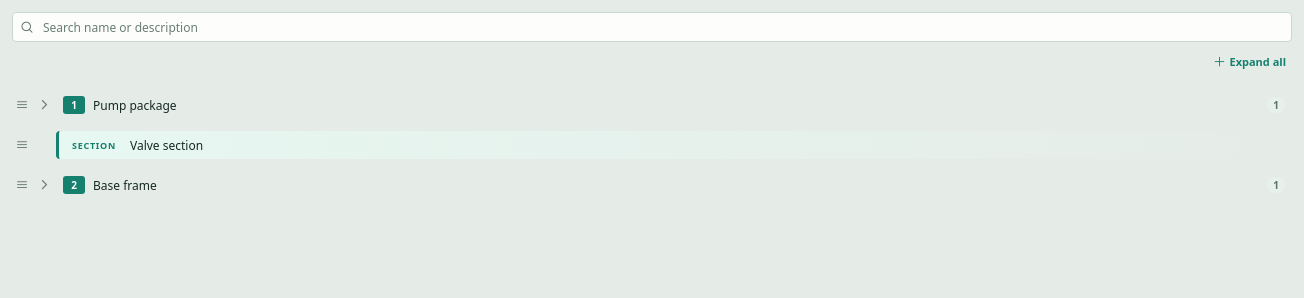
Test: QuotationNavigator › shows root section headers in the outline without consuming item numbering
This screenshot has width=1304, height=298.
Step 1. Click the button with class "navigator-toolbar-action" → (1250, 62), box [1208,50,1292,73]
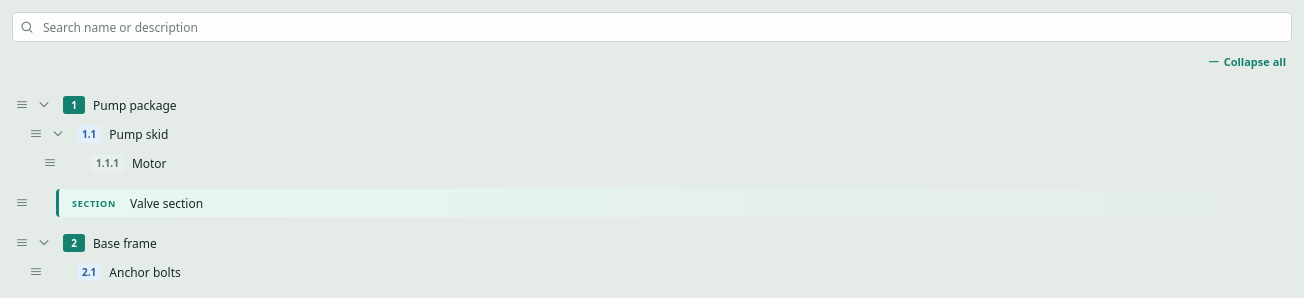
Expected: the element with class "nav-row-section" shows "Valve section", [56,189,1292,217]
Result: the elements with class "nav-num" read "1", "2", in this order at [63,96,85,114]; [63,234,85,252]
